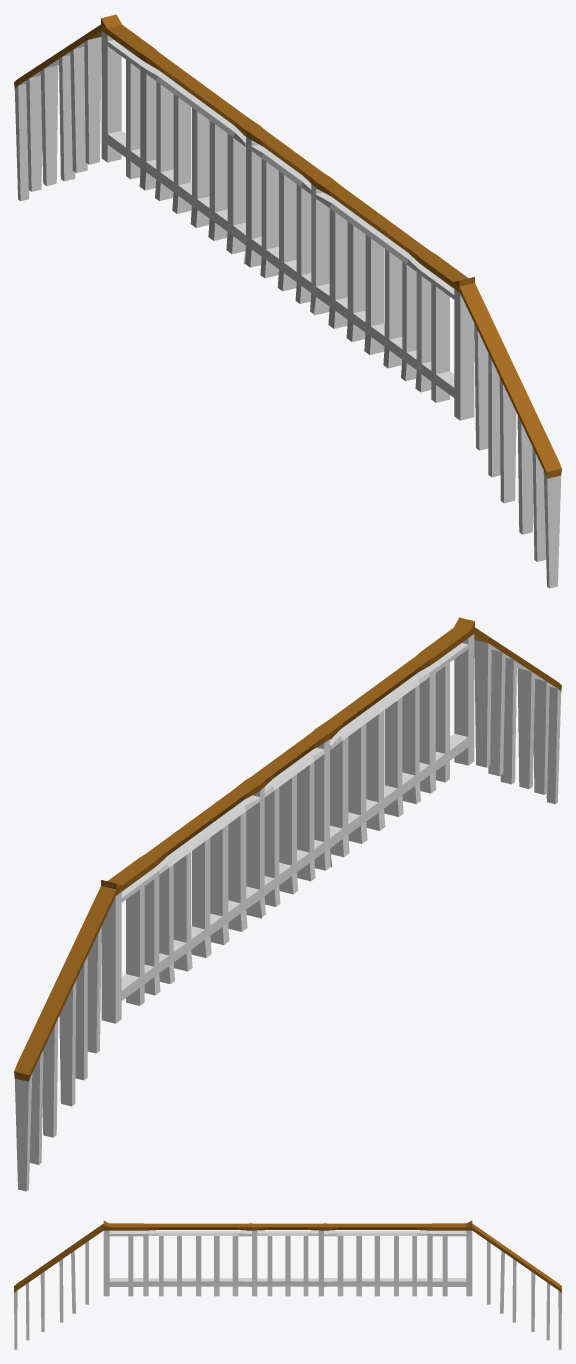
Rendered from barrière escalier.fbx.
3 views of the same model, one above another, from view 1: azimuth 30°, elevation 25°; view 2: azimuth 150°, elevation 25°; view 3: azimuth 270°, elevation 25° (orthographic). The views are drawn at different scales.
Parts seen in each view (by area): view 1: Barriere_Escalier; view 2: Barriere_Escalier; view 3: Barriere_Escalier.
Part boxes in pixels (x1,y1,x2,y2): Barriere_Escalier: (14,14,561,588); Barriere_Escalier: (14,617,561,1191); Barriere_Escalier: (14,1220,561,1349).
Bounding box in the file's own units: 0.32 × 4.03 × 15.83.
